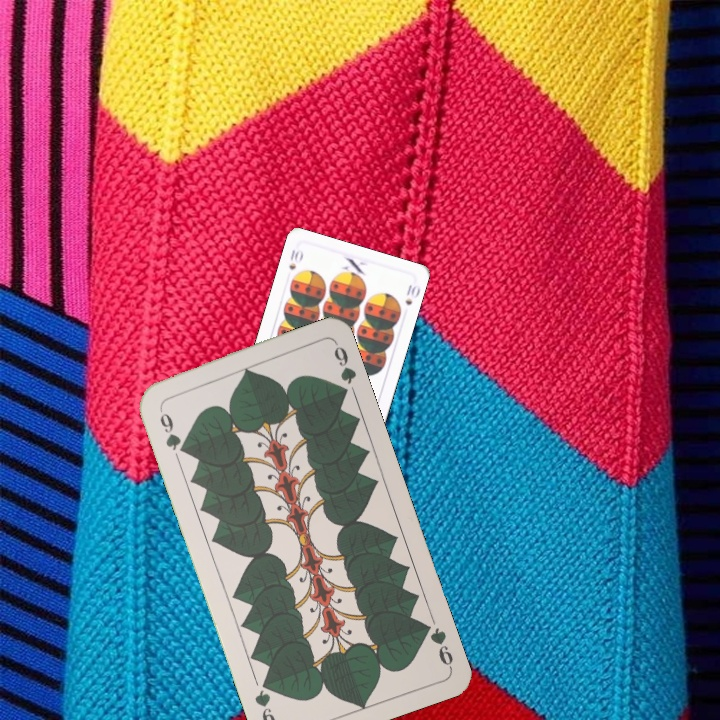G9: (417, 617, 456, 671), (155, 402, 189, 456)
S10: (285, 245, 306, 272)
